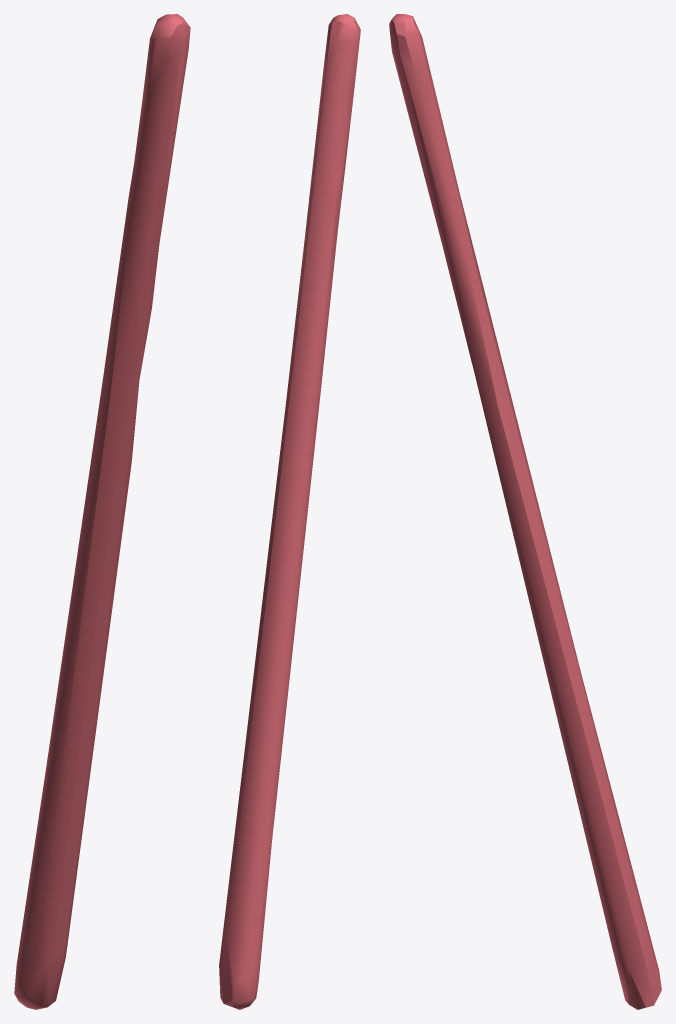
Rendered from fma51394_fj4980.glb.
The picture shows the model from 3 angles, left to right: view 1: azimuth 30°, elevation 25°; view 2: azimuth 150°, elevation 25°; view 3: azimuth 270°, elevation 25°; orthographic projection. The views are drawn at different scales.
Parts seen in each view (by area): view 1: FMA51394_FJ4980; view 2: FMA51394_FJ4980; view 3: FMA51394_FJ4980.
Boxes of the visible parts, box(x1,y1,x2,y2) form: FMA51394_FJ4980: box(14, 14, 190, 1009); FMA51394_FJ4980: box(219, 14, 360, 1009); FMA51394_FJ4980: box(389, 14, 661, 1009).
Bounding box in the file's own units: 0.00106 × 0.0255 × 0.00634.
